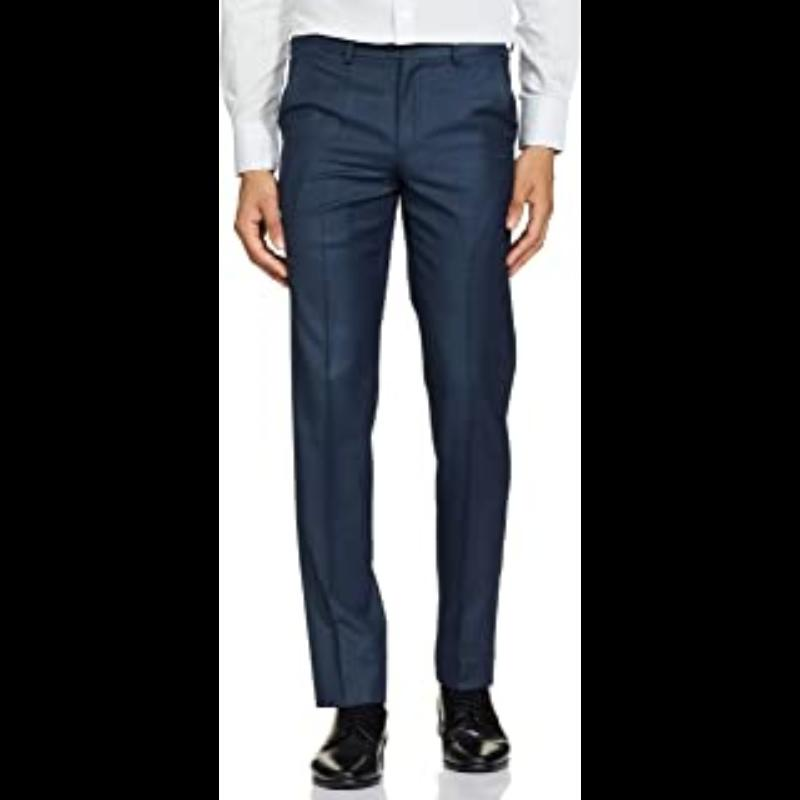Pant: (285, 38, 516, 712)
Shirt: (219, 0, 571, 154)
